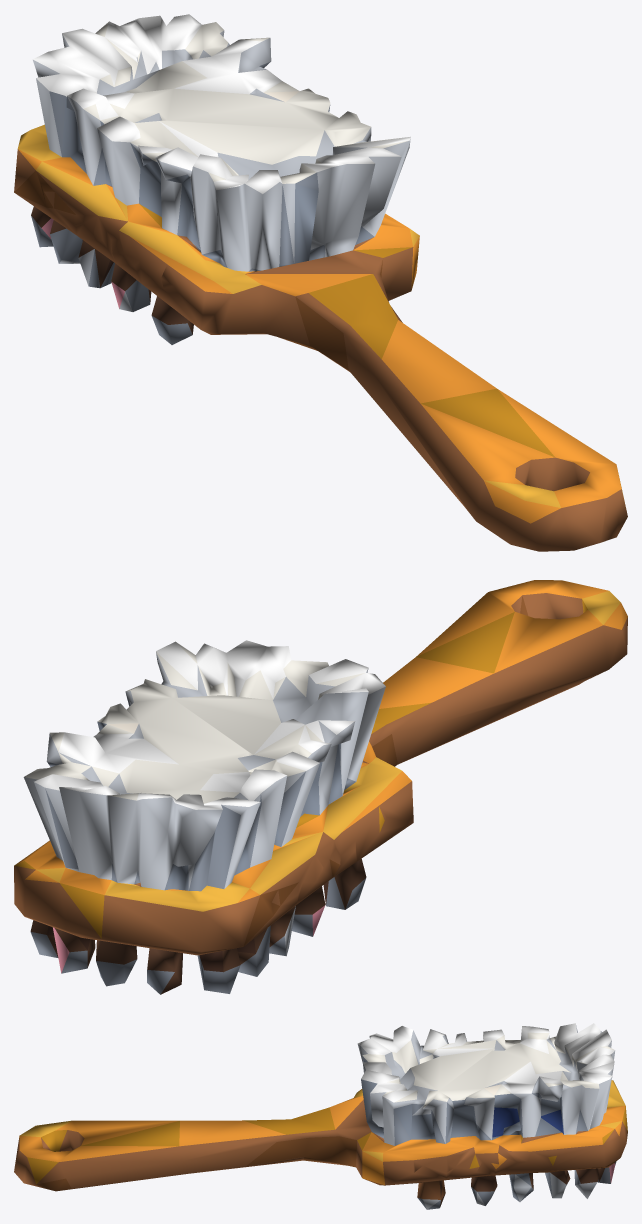
Rendered from SM_brush_scrub_wood.glb.
3 renders of one model, top to bottom at view 1: azimuth 30°, elevation 25°; view 2: azimuth 150°, elevation 25°; view 3: azimuth 270°, elevation 25°, orthographic. The views are drawn at different scales.
Visible parts, largest first — view 1: SM_brush_scrub_wood; view 2: SM_brush_scrub_wood; view 3: SM_brush_scrub_wood.
Boxes of the visible parts, <box> form: SM_brush_scrub_wood: <box>14,14,627,551</box>; SM_brush_scrub_wood: <box>14,580,627,994</box>; SM_brush_scrub_wood: <box>14,1023,627,1209</box>.
Size of the model in its own units: 0.1821 by 0.15 by 0.6299.
Materials: 1 (1 with a texture image).
